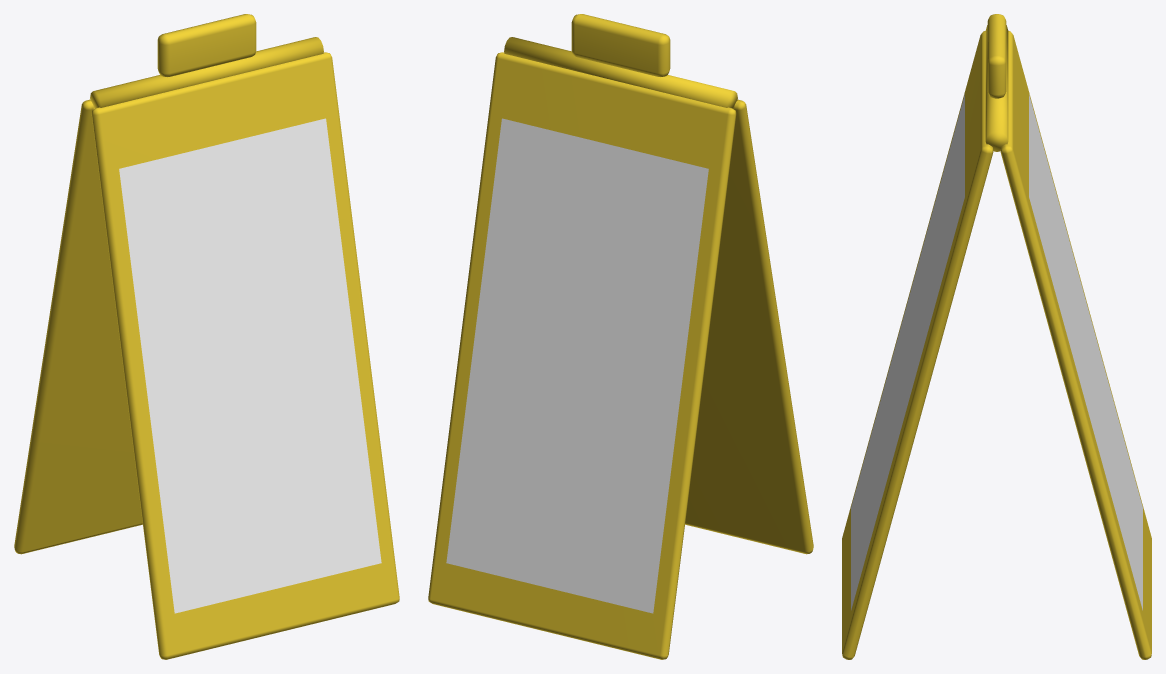
File: wetsign.glb
3 renders of one model, left to right at view 1: azimuth 30°, elevation 25°; view 2: azimuth 150°, elevation 25°; view 3: azimuth 270°, elevation 25°, orthographic. The views are drawn at different scales.
Parts seen in each view (by area): view 1: WetSignMesh; view 2: WetSignMesh; view 3: WetSignMesh.
Boxes of the visible parts, x1,y1,x2,y2 form: WetSignMesh: (14, 14, 399, 659); WetSignMesh: (428, 14, 813, 659); WetSignMesh: (842, 14, 1151, 659).
Bounding box in the file's own units: 0.3 × 0.6648 × 0.3291.
